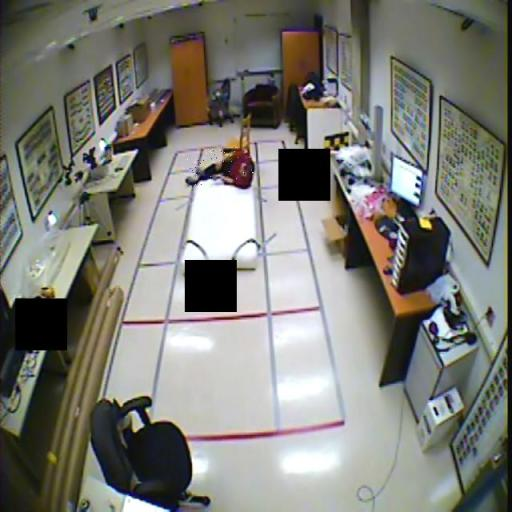Fall: (185, 147, 254, 191)
